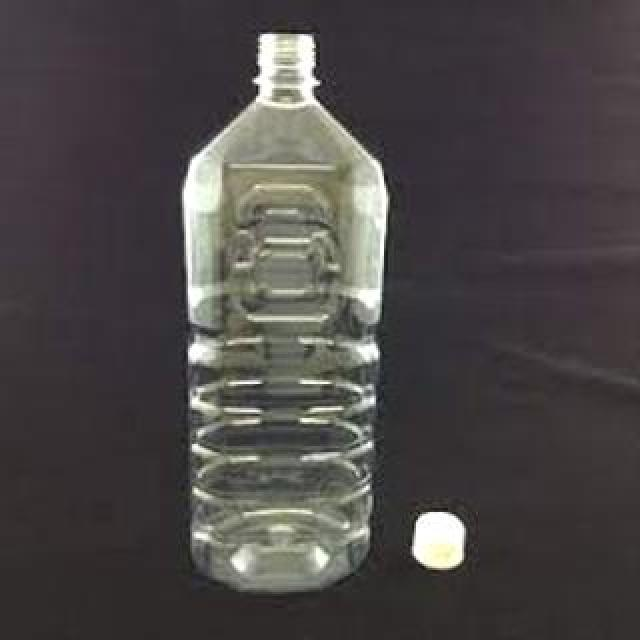Pet_Bottle: (183, 32, 389, 596)
